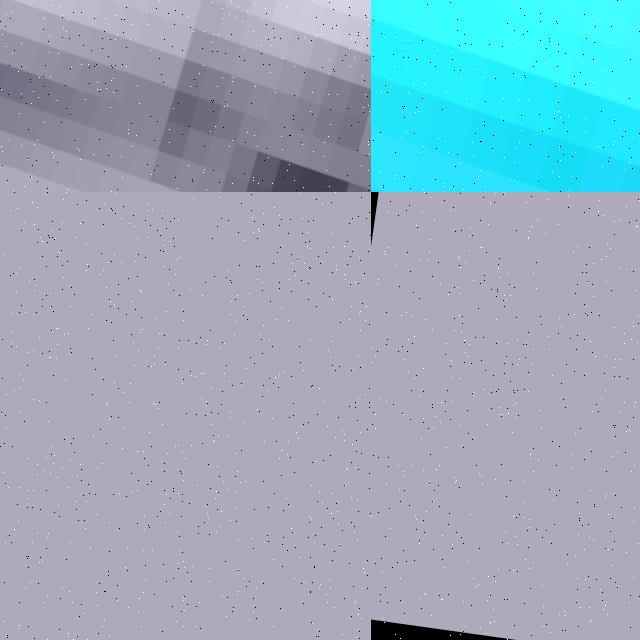drone: (0, 0, 371, 192), (371, 0, 640, 192)
